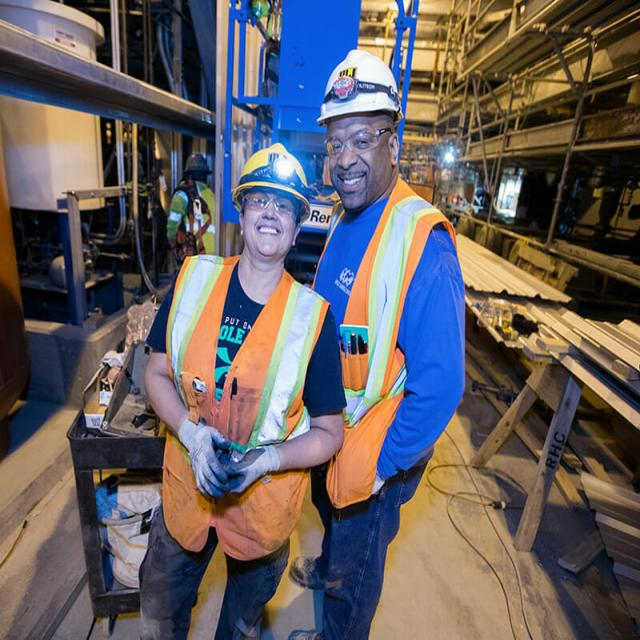Reflective-Jacket: (162, 254, 327, 555), (310, 177, 452, 513)
Safety-Helmet: (314, 46, 406, 127), (230, 139, 318, 203), (180, 149, 213, 173)
